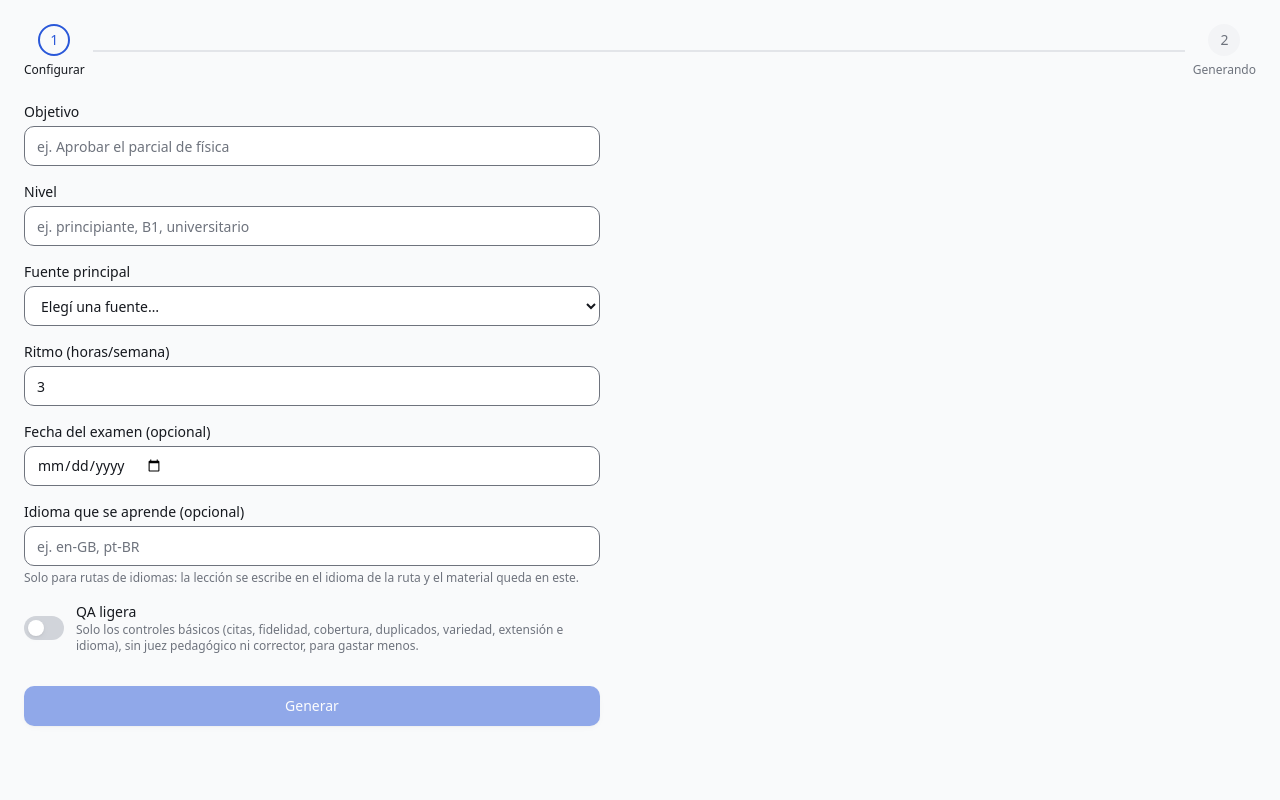
Test: WizardPage › quotes the live estimate once the form is filled
Type "Aprobar el parcial" into the field with test id "wizard-goal" at (312, 146), box [24,126,600,166]
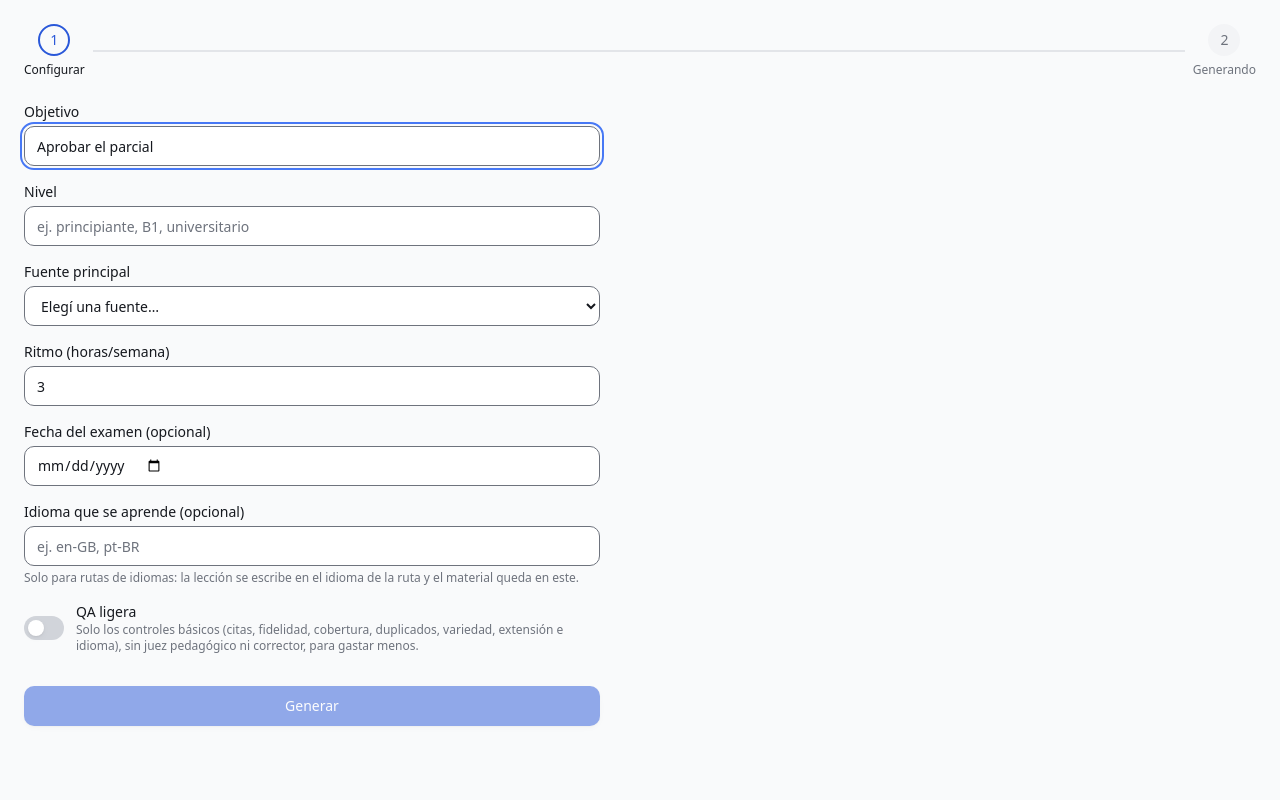
Type "principiante" into the field with test id "wizard-level" at (312, 226), box [24,206,600,246]
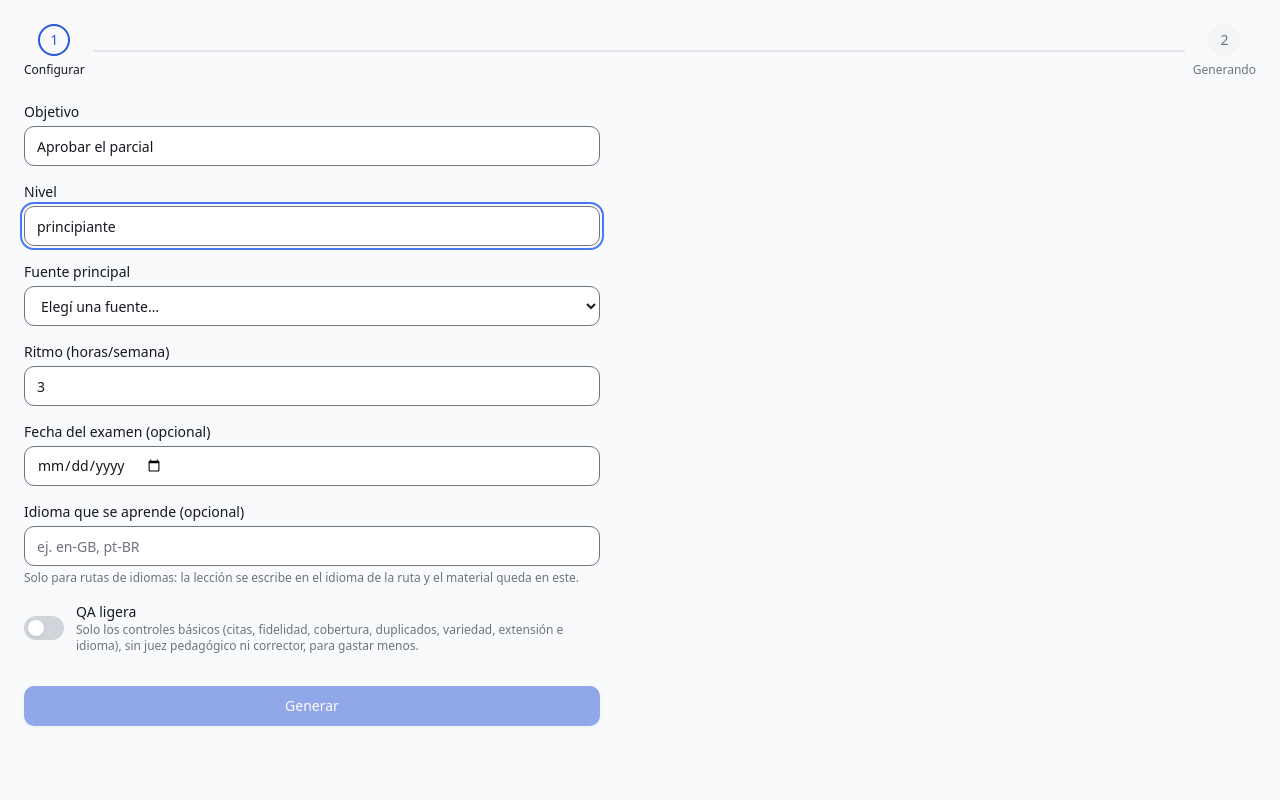
Select "Física I.md" in the dropdown with test id "wizard-primary-source" at (312, 306), box [24,286,600,326]
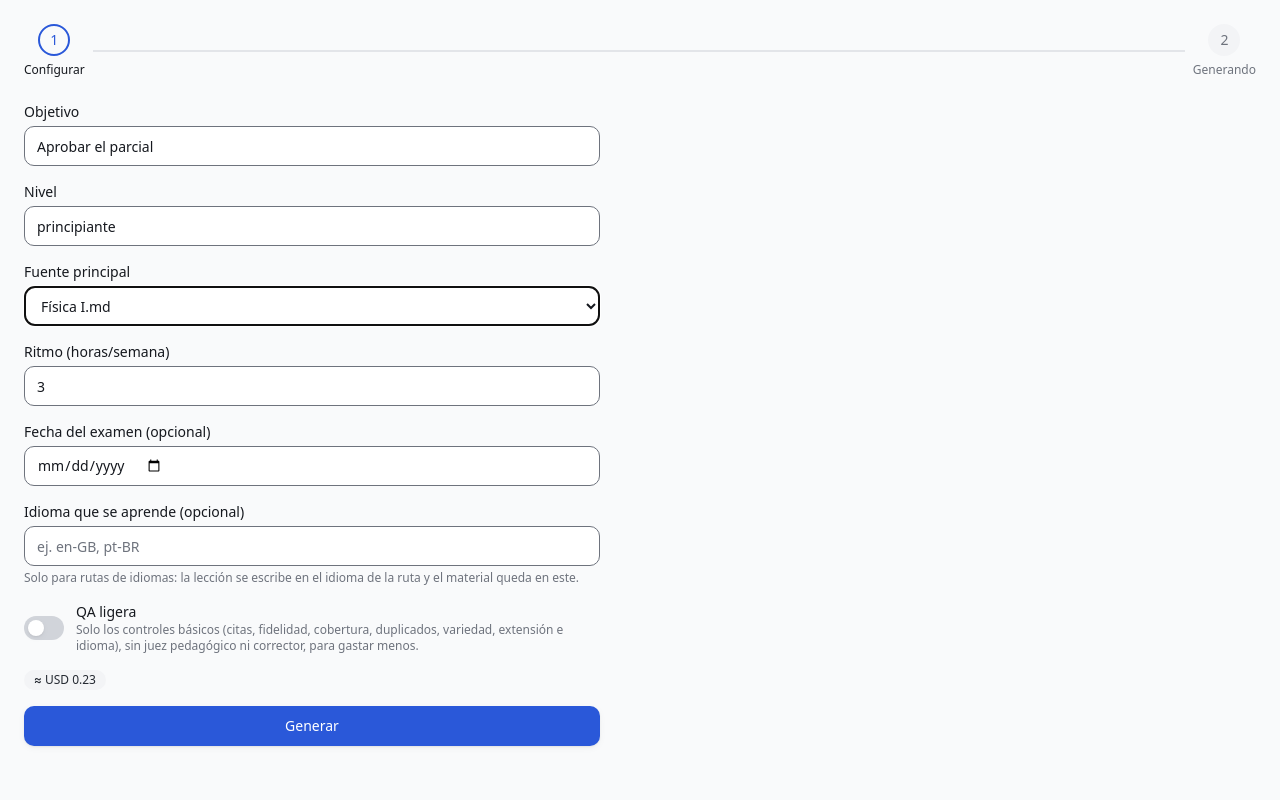
Now the text "≈ USD 0.23" is shown, box [24,670,106,690]
